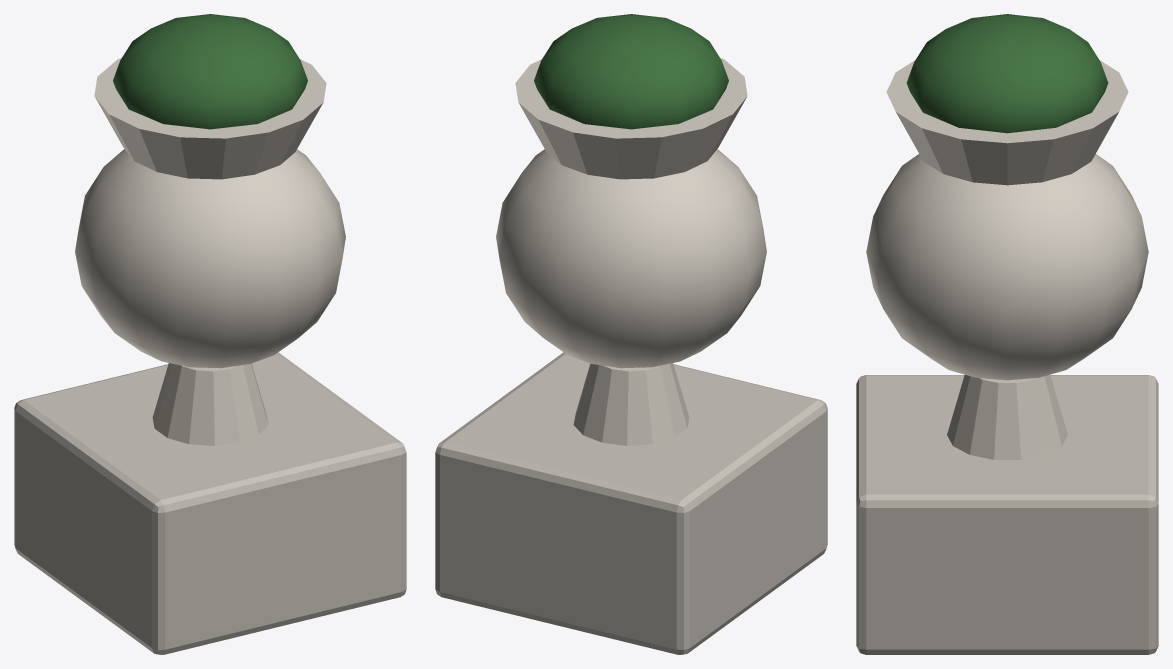
The model's file is Urn.glb.
The picture shows the model from 3 angles, left to right: view 1: azimuth 30°, elevation 25°; view 2: azimuth 150°, elevation 25°; view 3: azimuth 270°, elevation 25°; orthographic projection. The views are drawn at different scales.
Visible parts, largest first — view 1: Urn; view 2: Urn; view 3: Urn.
Part boxes in pixels (x1=…): Urn: x1=14, y1=14, x2=406, y2=654; Urn: x1=435, y1=14, x2=827, y2=654; Urn: x1=856, y1=14, x2=1158, y2=654.
Size of the model in its own units: 0.6 by 1.24 by 0.6.
